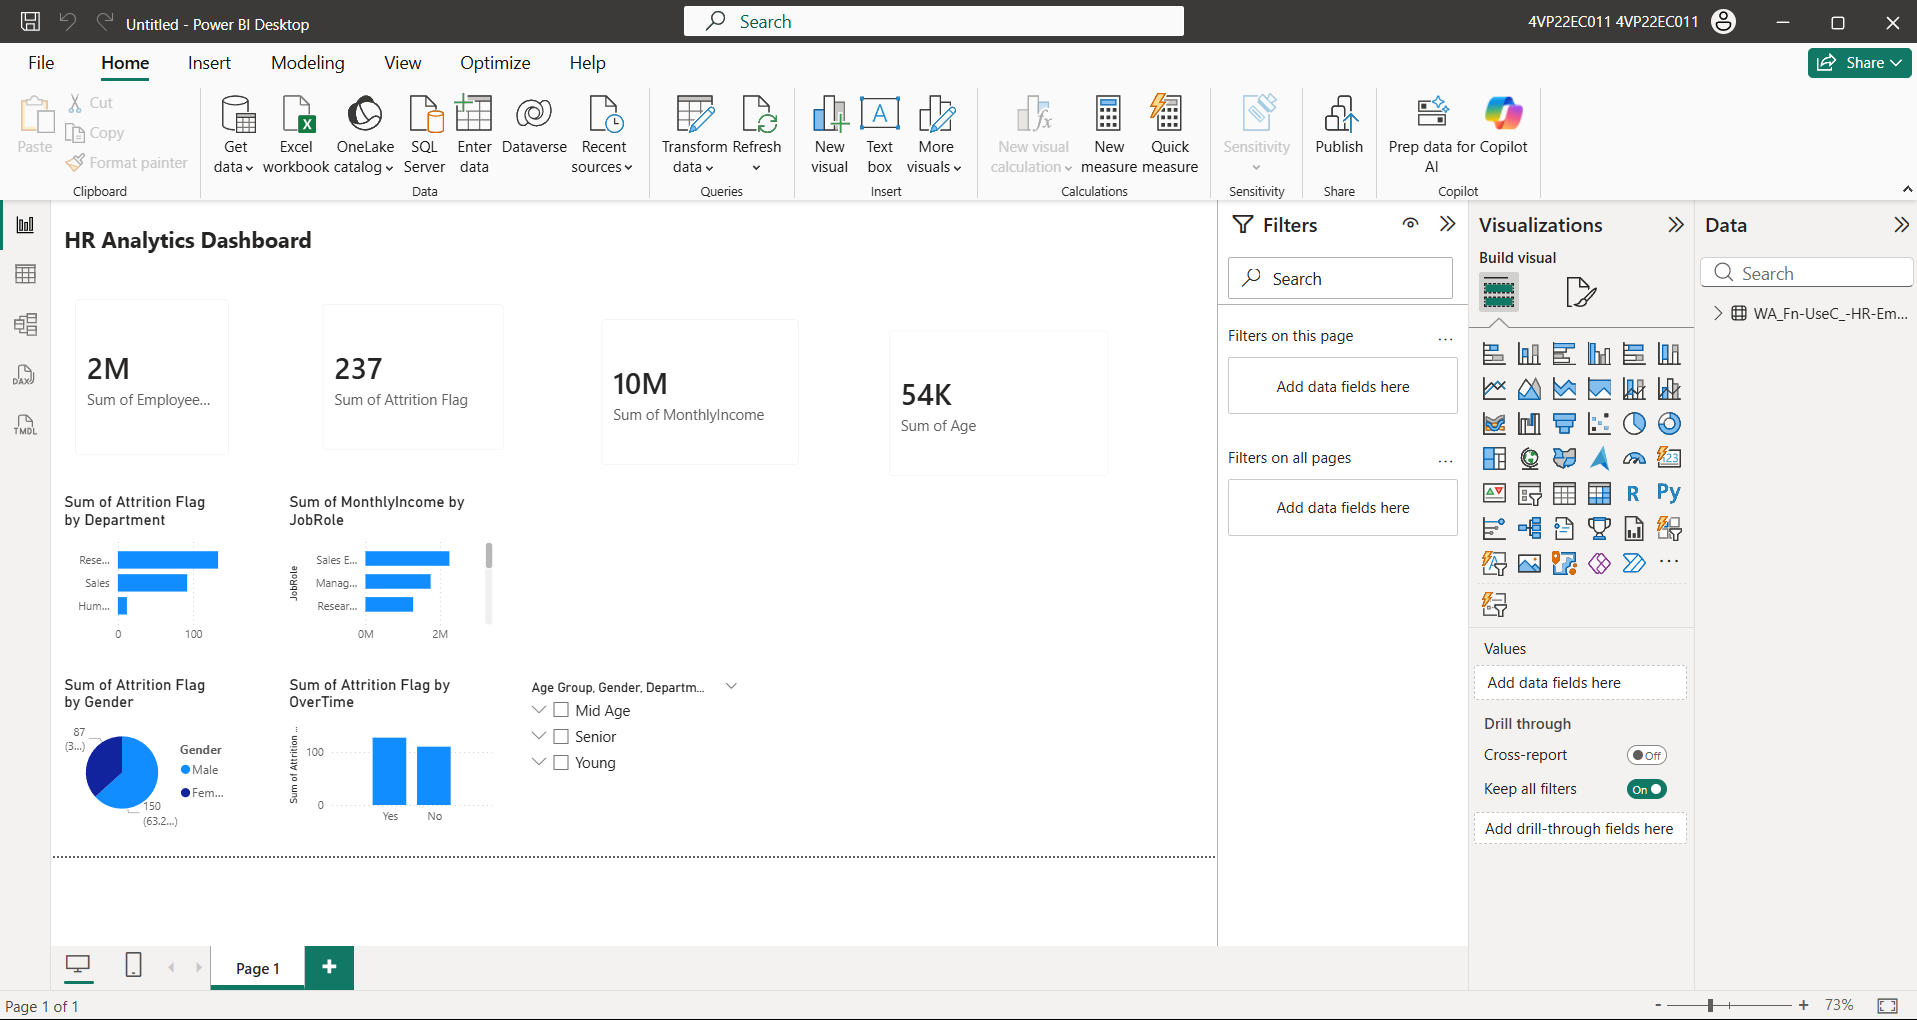

What the dashboard file says about the page in this screenshot:
{"tool":"powerbi","page":{"name":"Page 1","canvas":[1280,720],"ordinal":0},"visuals":[{"type":"cardVisual","fields":{"Data":["Sum(WA_Fn-UseC_-HR-Employee-Attriti.EmployeeNumber)"]},"box":[9.6,91.9,203.1,205.8],"z":0},{"type":"cardVisual","fields":{"Data":["Sum(WA_Fn-UseC_-HR-Employee-Attriti.MonthlyIncome)"]},"box":[587.3,113.9,251.1,194.9],"z":1},{"type":"cardVisual","fields":{"Data":["Sum(WA_Fn-UseC_-HR-Employee-Attriti.Age)"]},"box":[902.9,126.2,275.8,194.9],"z":2},{"type":"cardVisual","fields":{"Data":["Sum(WA_Fn-UseC_-HR-Employee-Attriti.Attrition Flag)"]},"box":[281.3,97.4,233.3,194.9],"z":3},{"type":"clusteredBarChart","fields":{"Category":["WA_Fn-UseC_-HR-Employee-Attriti.Department"],"Y":["Sum(WA_Fn-UseC_-HR-Employee-Attriti.Attrition Flag)"]},"box":[9.6,321.1,203.1,174.3],"z":4},{"type":"pieChart","fields":{"Y":["Sum(WA_Fn-UseC_-HR-Employee-Attriti.Attrition Flag)"],"Category":["WA_Fn-UseC_-HR-Employee-Attriti.Gender"]},"box":[9.6,521.4,203.1,172.9],"z":5},{"type":"clusteredBarChart","fields":{"Y":["Sum(WA_Fn-UseC_-HR-Employee-Attriti.MonthlyIncome)"],"Category":["WA_Fn-UseC_-HR-Employee-Attriti.JobRole"]},"box":[256.6,321.1,233.3,174.3],"z":6},{"type":"clusteredColumnChart","fields":{"Y":["Sum(WA_Fn-UseC_-HR-Employee-Attriti.Attrition Flag)"],"Category":["WA_Fn-UseC_-HR-Employee-Attriti.OverTime"]},"box":[256.6,521.4,233.3,172.9],"z":7},{"type":"slicer","fields":{"Values":["WA_Fn-UseC_-HR-Employee-Attriti.Age Group","WA_Fn-UseC_-HR-Employee-Attriti.Gender","WA_Fn-UseC_-HR-Employee-Attriti.Department"]},"box":[514.6,521.4,251.1,174.3],"z":8},{"type":"textbox","box":[9.6,22,462.4,54.9],"z":9}]}

Visuals, with their boxes on the page's 1280x720 design canvas (x1, y1, x2, y2). These are canvas units, not pixel positions in the 1917x1020 screenshot, which may show the page scaled, cropped or inside an application window:
cardVisual - Sum(WA_Fn-UseC_-HR-Employee-Attriti.EmployeeNumber): x1=10, y1=92, x2=213, y2=298
cardVisual - Sum(WA_Fn-UseC_-HR-Employee-Attriti.MonthlyIncome): x1=587, y1=114, x2=838, y2=309
cardVisual - Sum(WA_Fn-UseC_-HR-Employee-Attriti.Age): x1=903, y1=126, x2=1179, y2=321
cardVisual - Sum(WA_Fn-UseC_-HR-Employee-Attriti.Attrition Flag): x1=281, y1=97, x2=515, y2=292
clusteredBarChart - WA_Fn-UseC_-HR-Employee-Attriti.Department x Sum(WA_Fn-UseC_-HR-Employee-Attriti.Attrition Flag): x1=10, y1=321, x2=213, y2=495
pieChart - Sum(WA_Fn-UseC_-HR-Employee-Attriti.Attrition Flag) x WA_Fn-UseC_-HR-Employee-Attriti.Gender: x1=10, y1=521, x2=213, y2=694
clusteredBarChart - Sum(WA_Fn-UseC_-HR-Employee-Attriti.MonthlyIncome) x WA_Fn-UseC_-HR-Employee-Attriti.JobRole: x1=257, y1=321, x2=490, y2=495
clusteredColumnChart - Sum(WA_Fn-UseC_-HR-Employee-Attriti.Attrition Flag) x WA_Fn-UseC_-HR-Employee-Attriti.OverTime: x1=257, y1=521, x2=490, y2=694
slicer - WA_Fn-UseC_-HR-Employee-Attriti.Age Group x WA_Fn-UseC_-HR-Employee-Attriti.Gender: x1=515, y1=521, x2=766, y2=696
textbox: x1=10, y1=22, x2=472, y2=77
